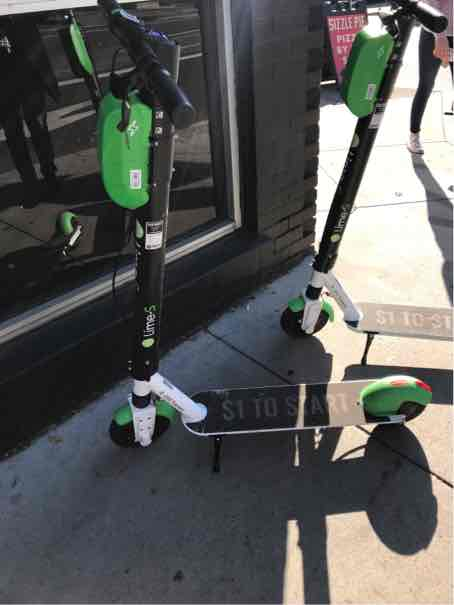scooter: (84, 1, 451, 473)
